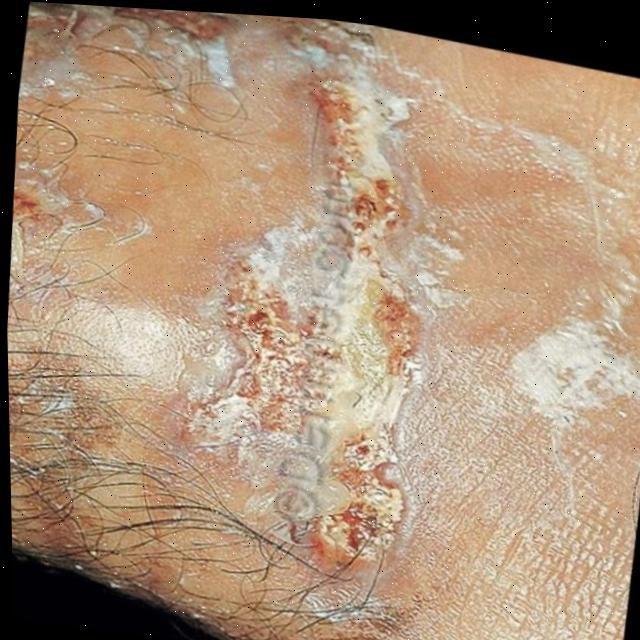Eczema: (0, 0, 483, 607)
